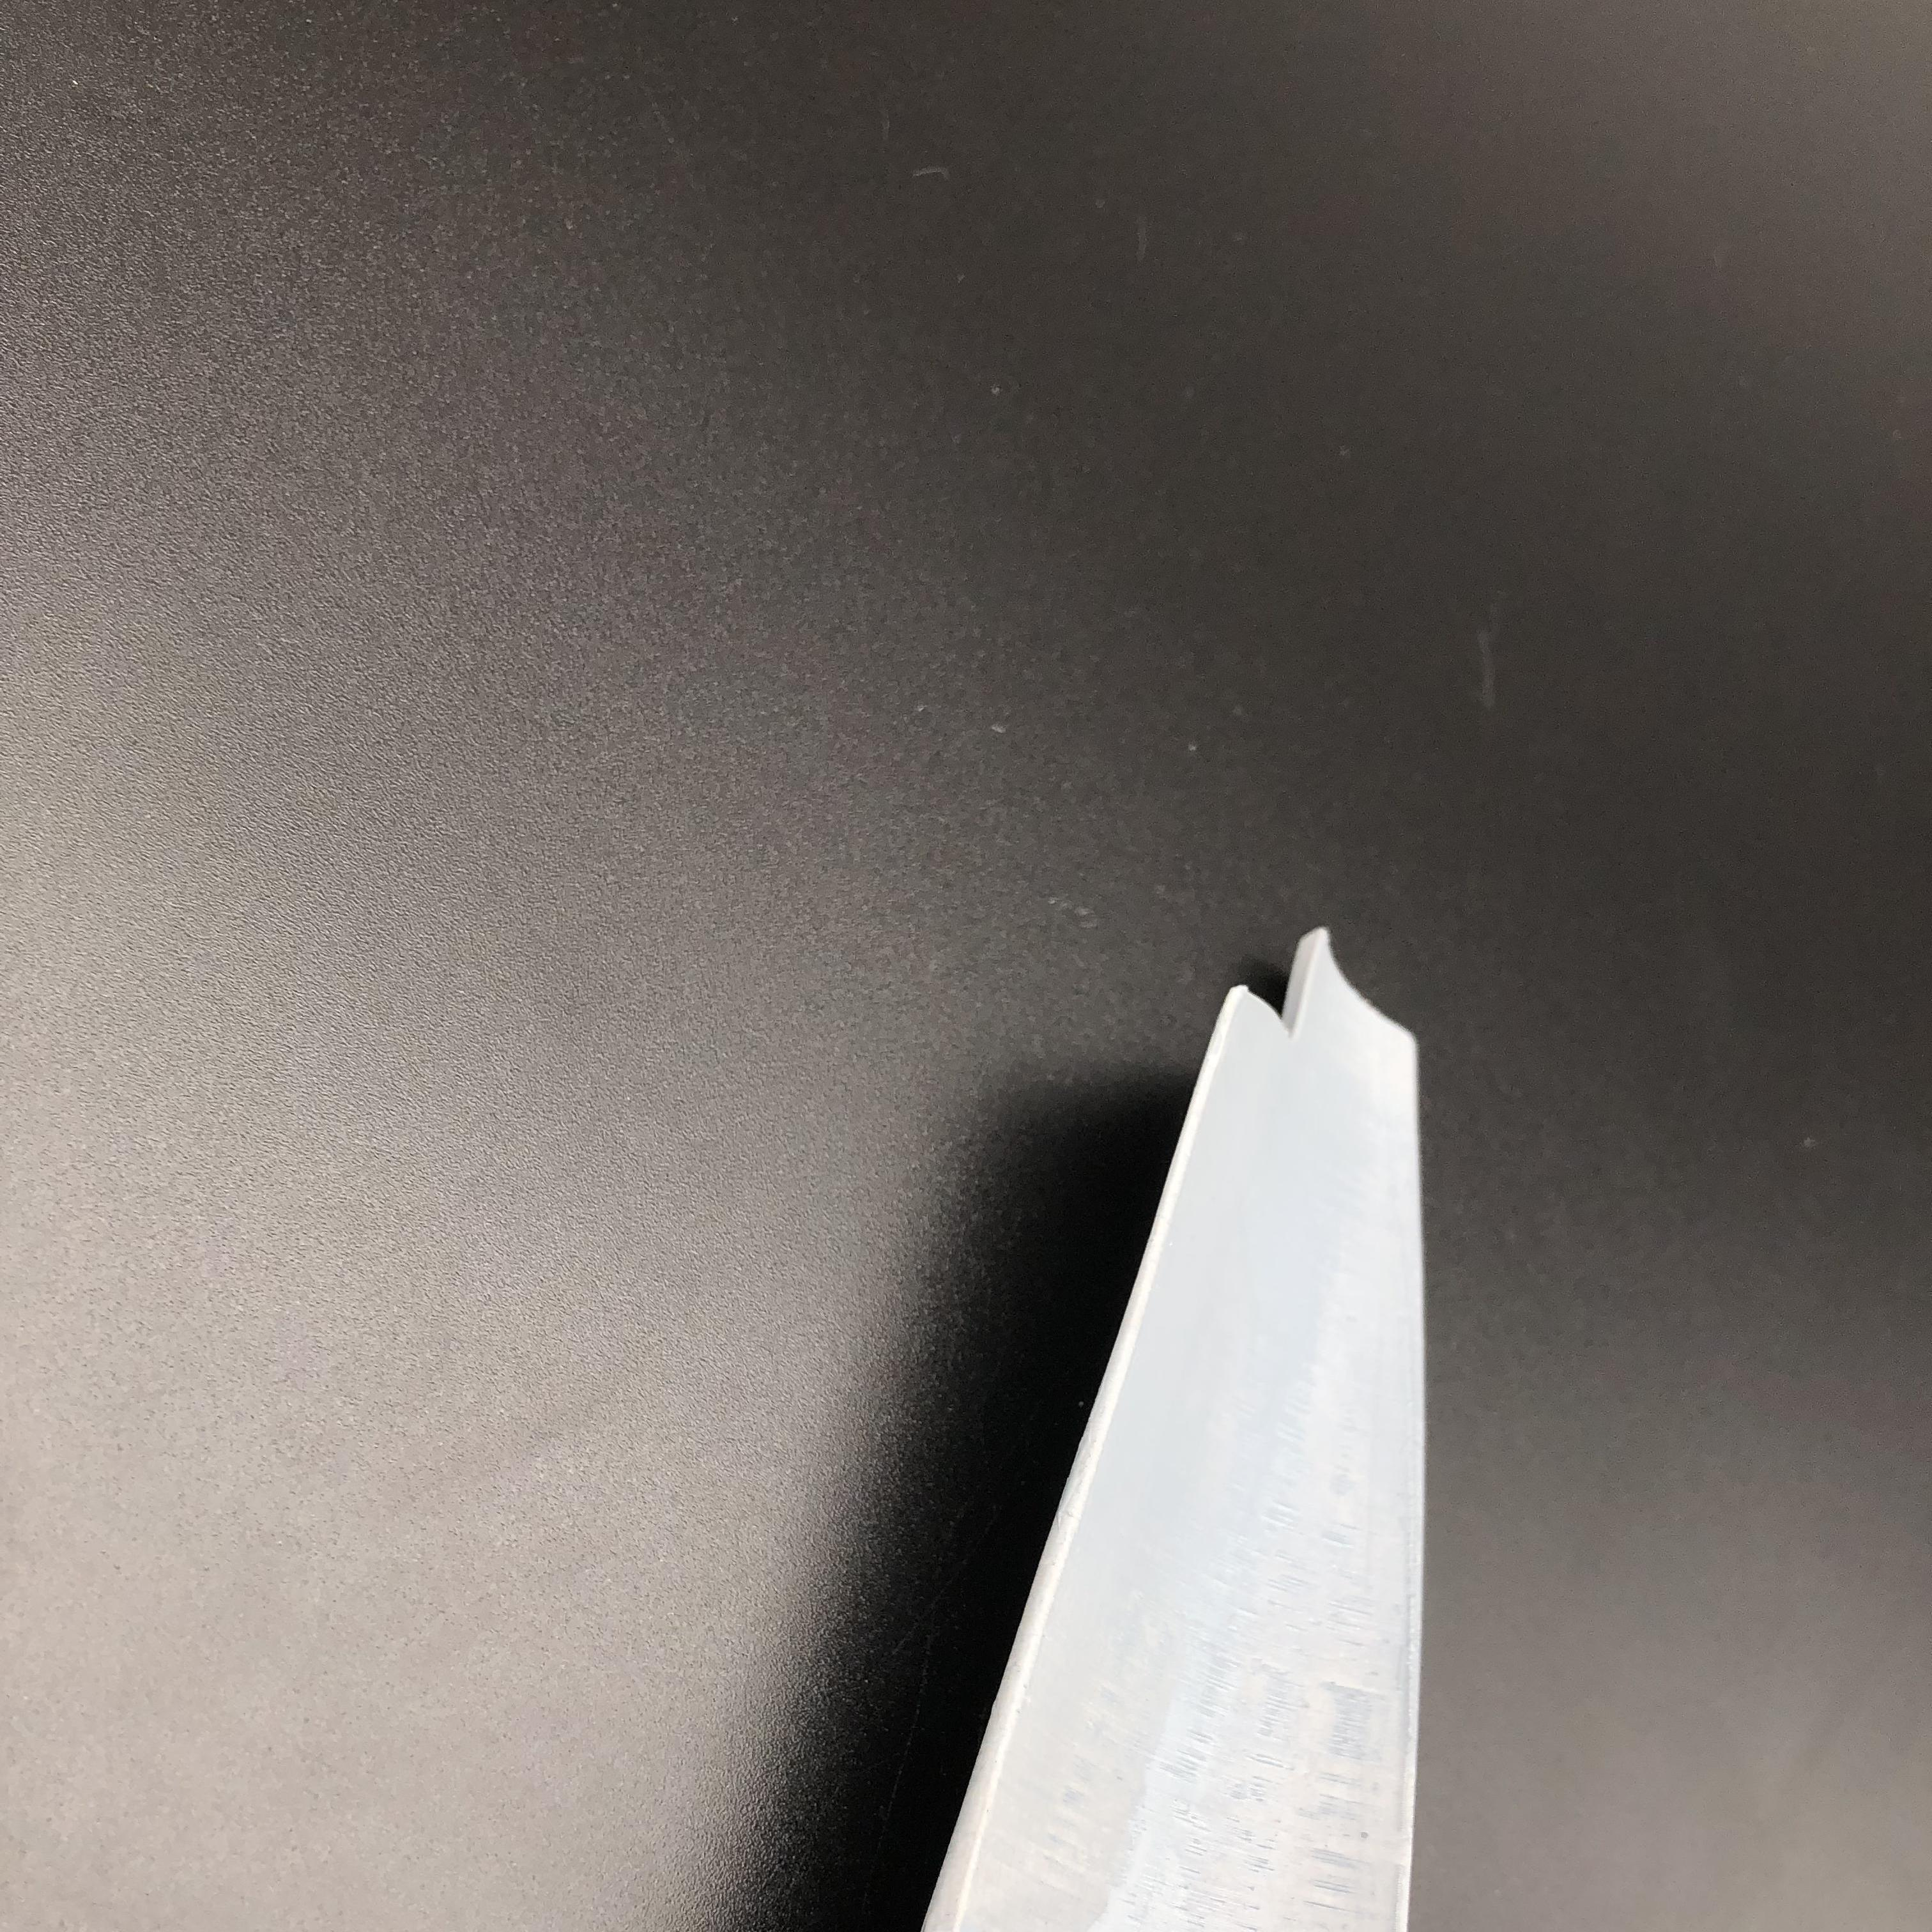fracture: (1233, 936, 1357, 1051)
